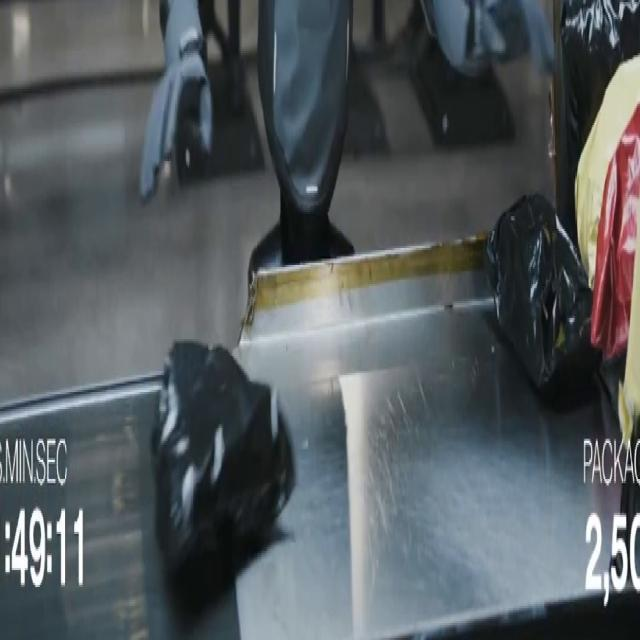package: (152, 342, 295, 574), (486, 195, 599, 400), (555, 0, 639, 239), (575, 58, 639, 360), (619, 259, 639, 440)
